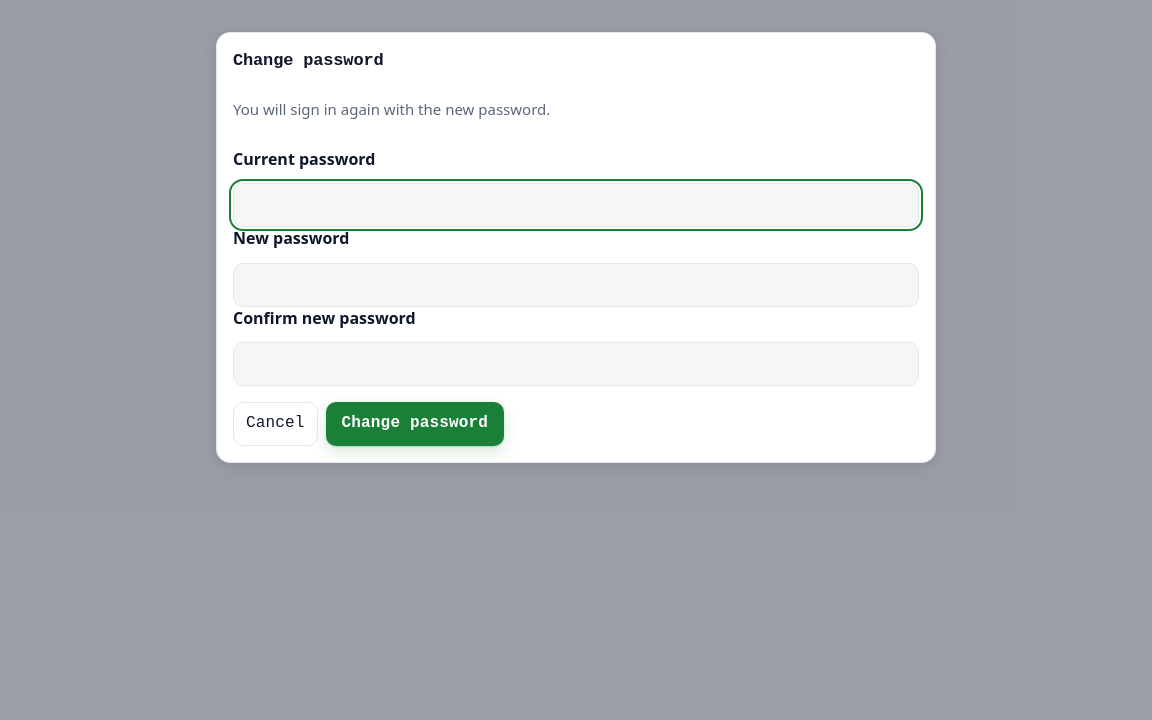
ChangePasswordDialog › shows current-password error on reauth_required
Type "wrong" into the password field labelled "Current password" at (576,205), box [233, 183, 919, 227]
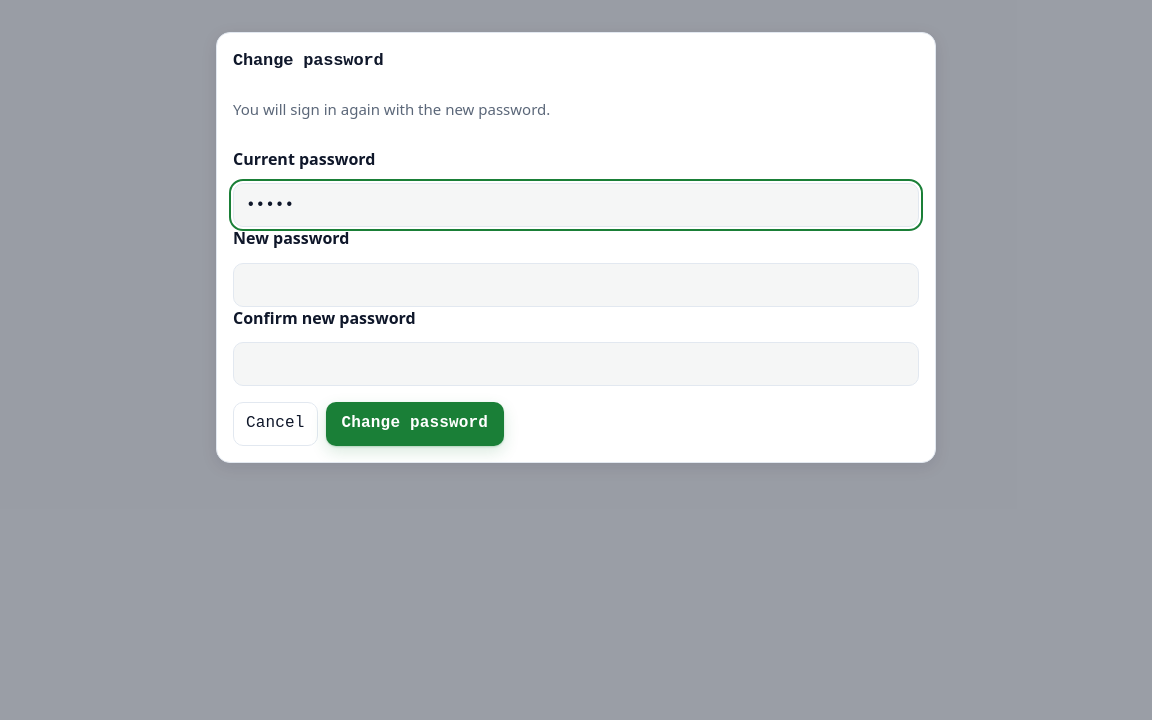
Type "new-secret-password" into the password field labelled "New password" at (576,284), box [233, 262, 919, 306]
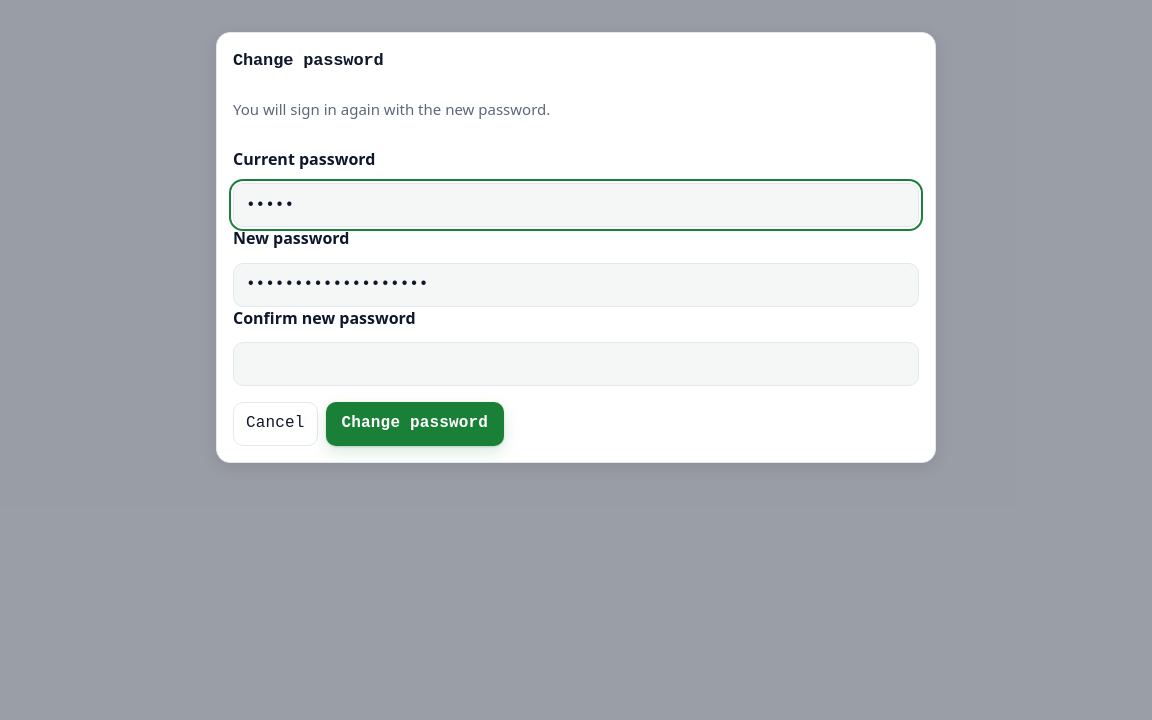
Type "new-secret-password" into the password field labelled "Confirm new password" at (576,364), box [233, 342, 919, 386]
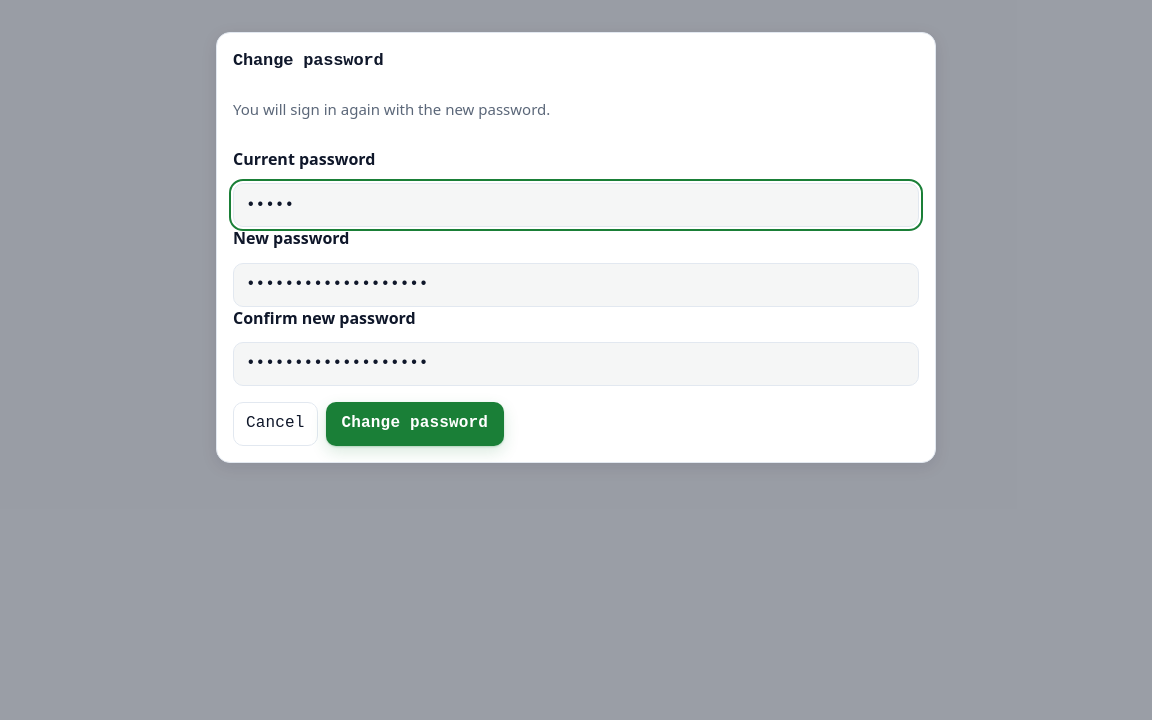
Click the button "Change password" at (415,424), box [326, 402, 504, 446]
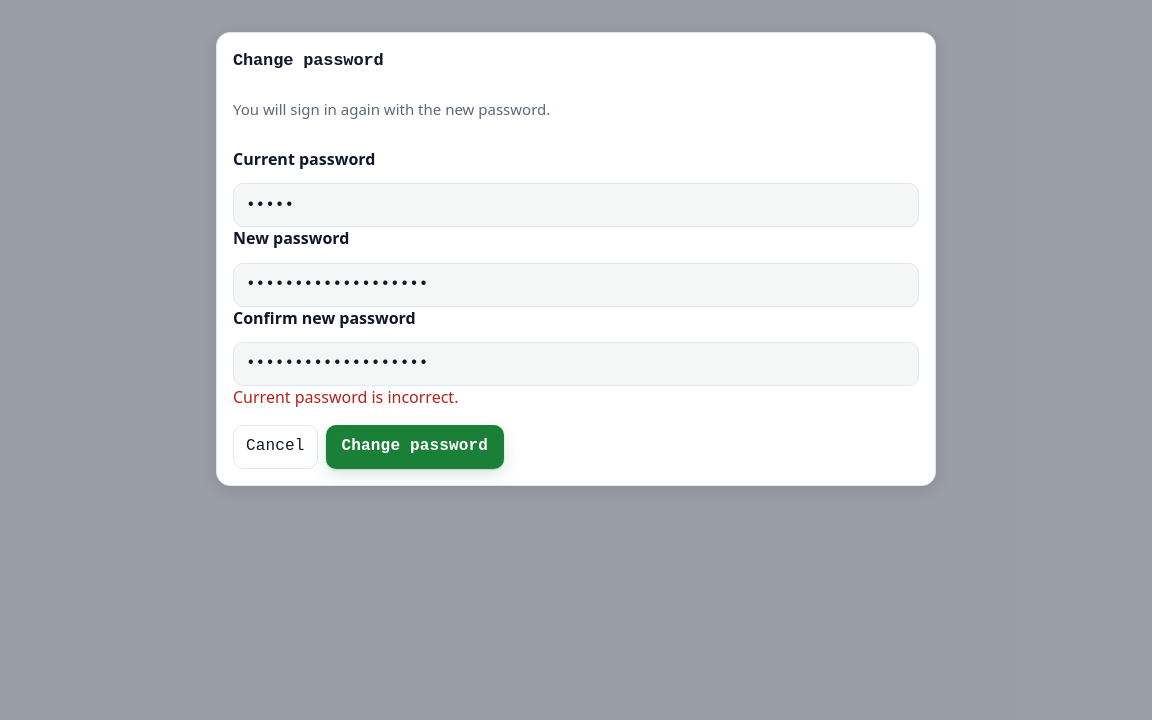
Result: the text "Current password is incorrect." is shown at [233, 386, 458, 408]
